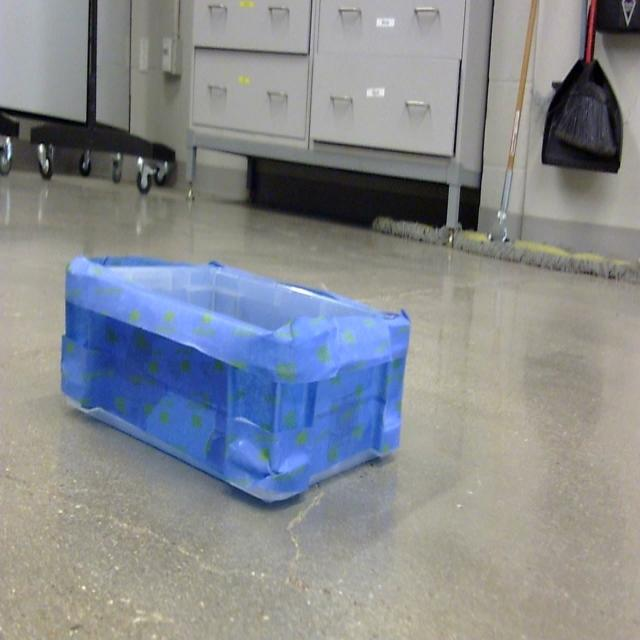bucket: (59, 256, 412, 508)
